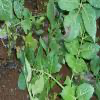Potato leaf late blight: (59, 10, 83, 41), (81, 69, 97, 88), (41, 31, 53, 52), (53, 3, 64, 24)
